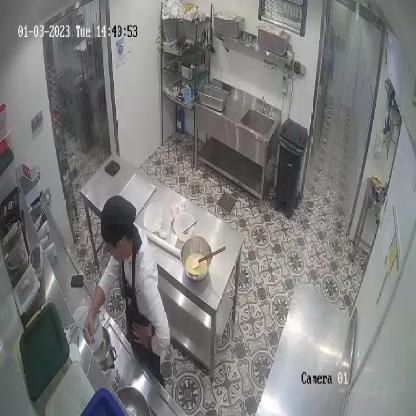apron: (115, 233, 165, 387)
